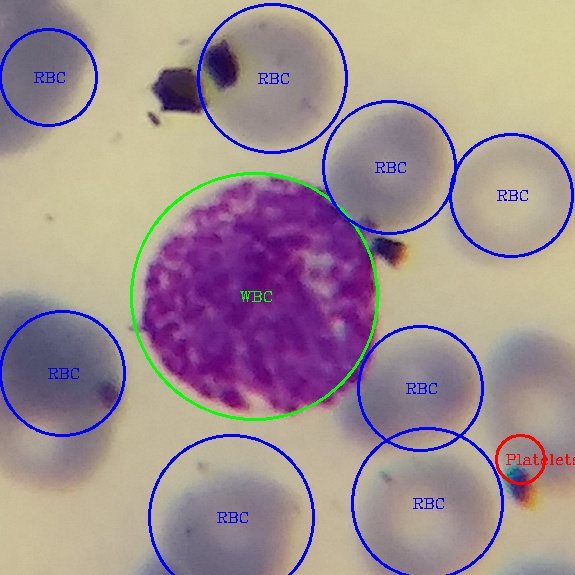RBC: (0, 286, 127, 484), (442, 129, 571, 276), (328, 331, 479, 455), (134, 464, 301, 573), (348, 450, 493, 573), (321, 98, 450, 233), (211, 11, 334, 151), (1, 0, 99, 164), (483, 323, 574, 490)
WBC: (132, 164, 385, 422)
